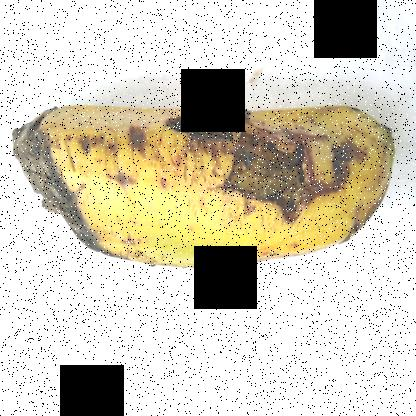rotten: (162, 70, 362, 246), (8, 87, 120, 287)
